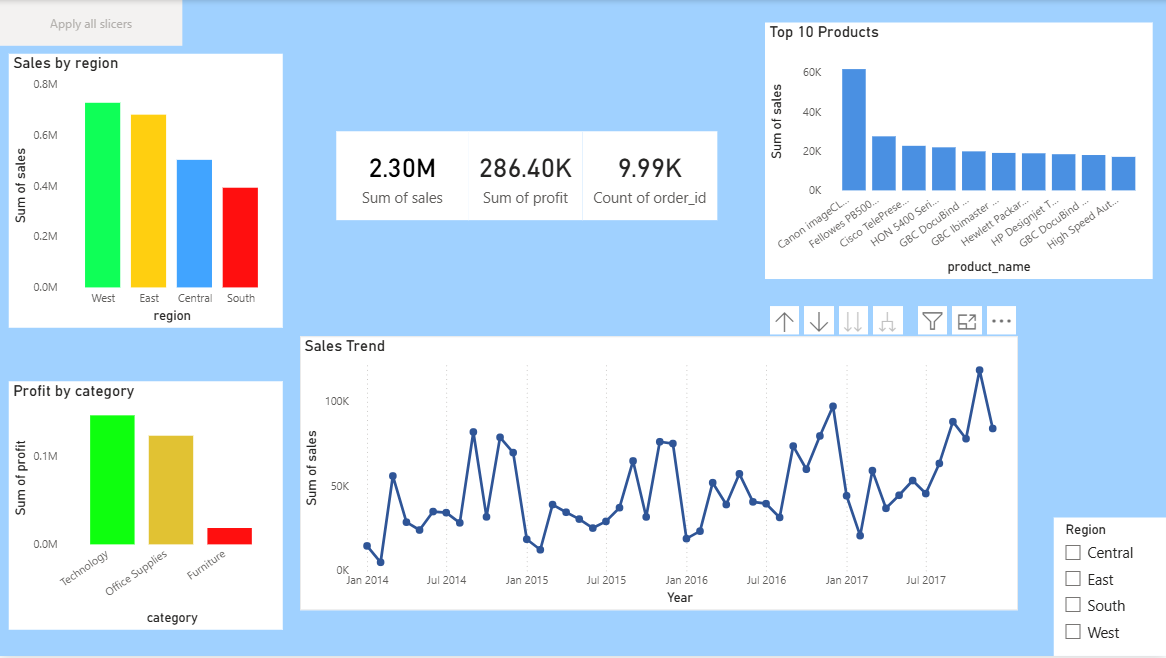

What the dashboard file says about the page in this screenshot:
{"tool":"powerbi","page":{"name":"Page 1","canvas":[1280,720],"ordinal":0},"visuals":[{"type":"card","fields":{"Values":["Sum(cleaned_sales_data.sales)"]},"box":[369.1,144.1,145.5,97.4],"z":0},{"type":"card","fields":{"Values":["Sum(cleaned_sales_data.profit)"]},"box":[514.6,144.1,124.9,97.4],"z":1000},{"type":"card","fields":{"Values":["CountNonNull(cleaned_sales_data.order_id)"]},"box":[639.5,144.1,148.2,97.4],"z":2000},{"type":"columnChart","title":"Sales by region","fields":{"Y":["Sum(cleaned_sales_data.sales)"],"Category":["cleaned_sales_data.region"]},"box":[9.6,59,300.5,300.5],"z":3000},{"type":"lineChart","title":"Sales Trend","fields":{"Category":["cleaned_sales_data.order_date.Variation.Date Hierarchy.Year","cleaned_sales_data.order_date.Variation.Date Hierarchy.Month"],"Y":["Sum(cleaned_sales_data.sales)"]},"box":[329.3,369.1,787.7,300.5],"z":4000},{"type":"columnChart","title":"Top 10 Products","fields":{"Category":["cleaned_sales_data.product_name"],"Y":["Sum(cleaned_sales_data.sales)"]},"box":[839.8,24.7,425.4,281.3],"z":5000},{"type":"columnChart","title":"Profit by category","fields":{"Category":["cleaned_sales_data.category"],"Y":["Sum(cleaned_sales_data.profit)"]},"box":[9.6,418.5,300.5,273.1],"z":6000},{"type":"actionButton","box":[0,0,200,50],"z":7000},{"type":"slicer","fields":{"Values":["cleaned_sales_data.region"]},"box":[1156.8,568.1,123.5,152.3],"z":8000}]}

Visuals, with their boxes in screenshot pixels (x1, y1, x2, y2), scaled from the page's 1280x720 canvas onto the 1166x658 screenshot:
card - Sum(cleaned_sales_data.sales): [336,132,469,221]
card - Sum(cleaned_sales_data.profit): [469,132,583,221]
card - CountNonNull(cleaned_sales_data.order_id): [583,132,718,221]
"Sales by region" columnChart: [9,54,282,329]
"Sales Trend" lineChart: [300,337,1018,612]
"Top 10 Products" columnChart: [765,23,1153,280]
"Profit by category" columnChart: [9,382,282,632]
actionButton: [0,0,182,46]
slicer - cleaned_sales_data.region: [1054,519,1165,657]
